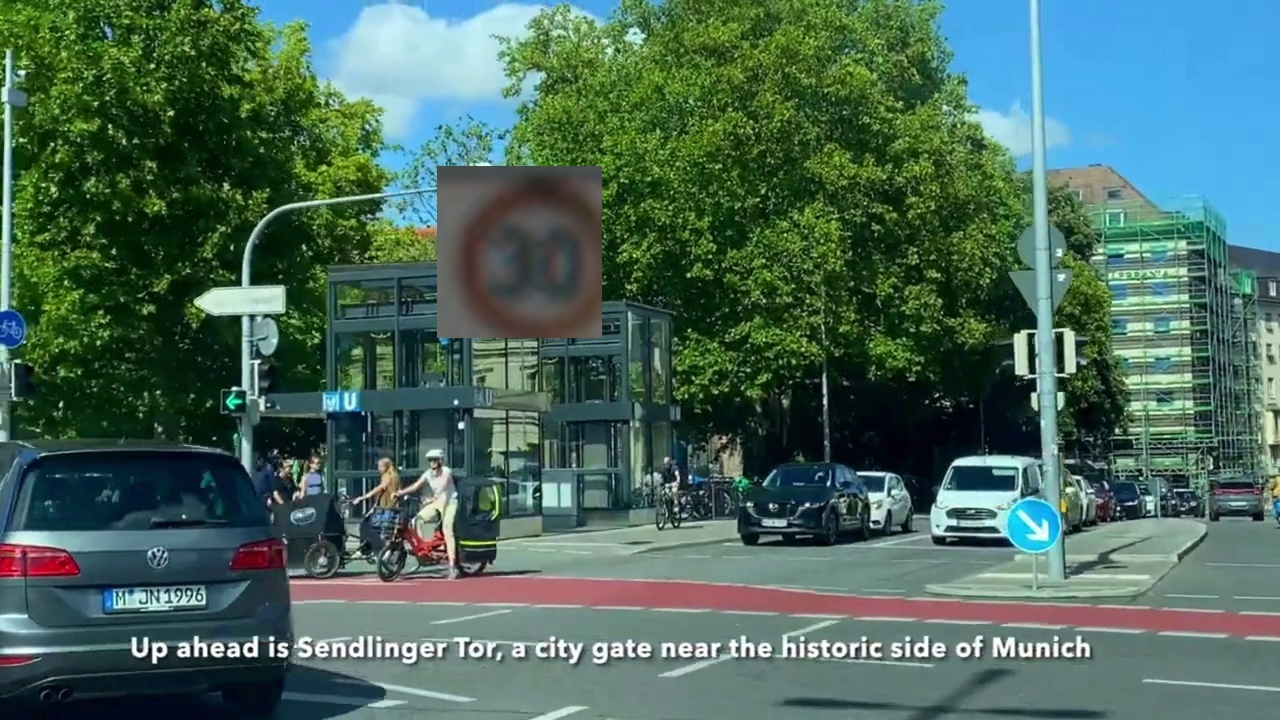Speed 30: (437, 166, 602, 338)
